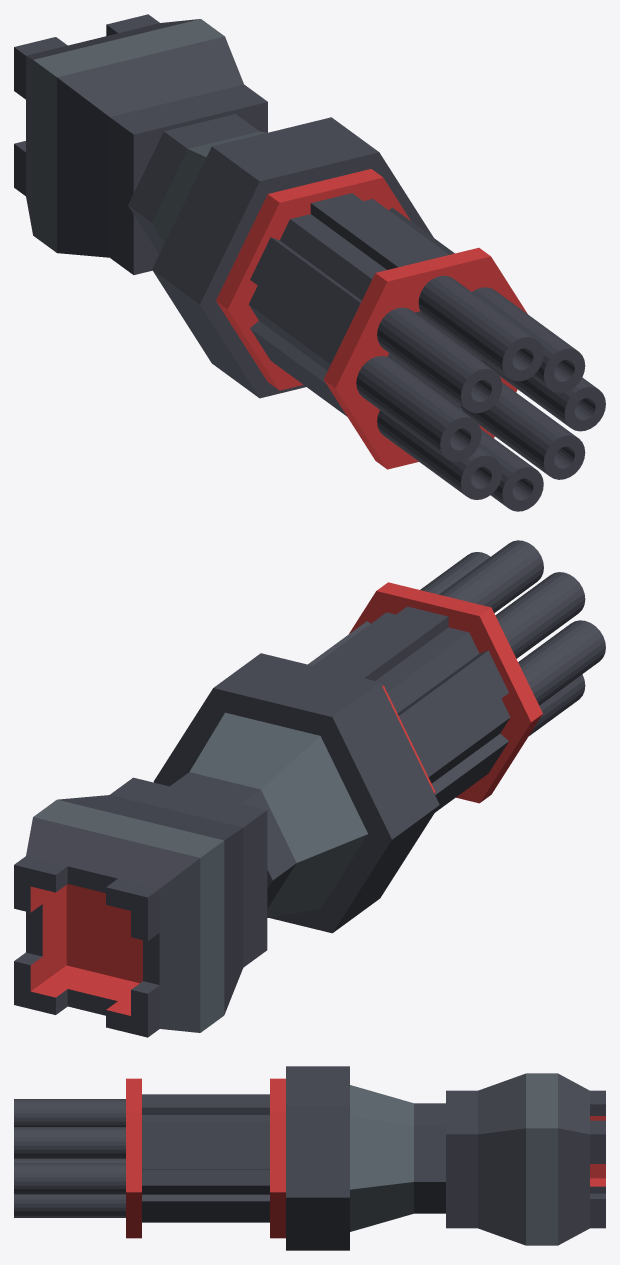
File: Chaingun.fbx
The picture shows the model from 3 angles, top to bottom: view 1: azimuth 30°, elevation 25°; view 2: azimuth 150°, elevation 25°; view 3: azimuth 270°, elevation 25°; orthographic projection. The views are drawn at different scales.
Parts seen in each view (by area): view 1: Chaingun, Spin Barrel; view 2: Chaingun, Spin Barrel; view 3: Chaingun, Spin Barrel.
Part boxes in pixels (x1,y1,x2,y2): Chaingun: (14,14,527,469); Spin Barrel: (356,275,605,511); Chaingun: (14,582,542,1037); Spin Barrel: (420,540,605,735); Chaingun: (126,1066,605,1250); Spin Barrel: (14,1099,125,1217).
Bounding box in the file's own units: 92.38 × 80 × 296.
